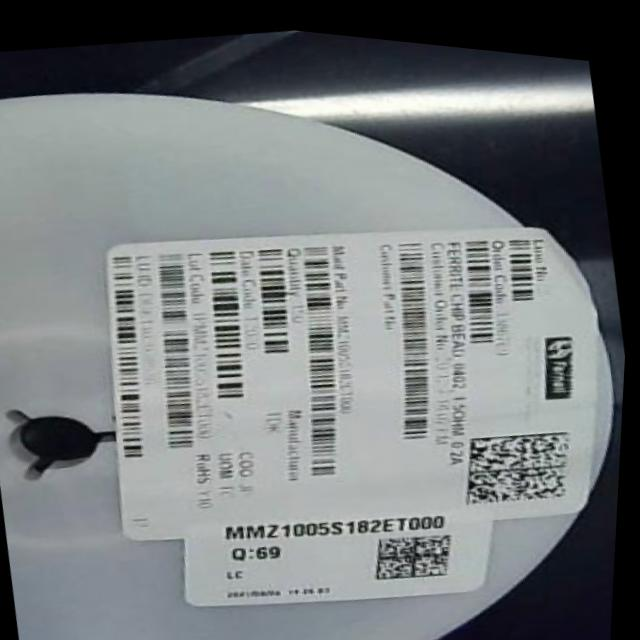datamatrix: (456, 407, 591, 510), (372, 515, 466, 583)
